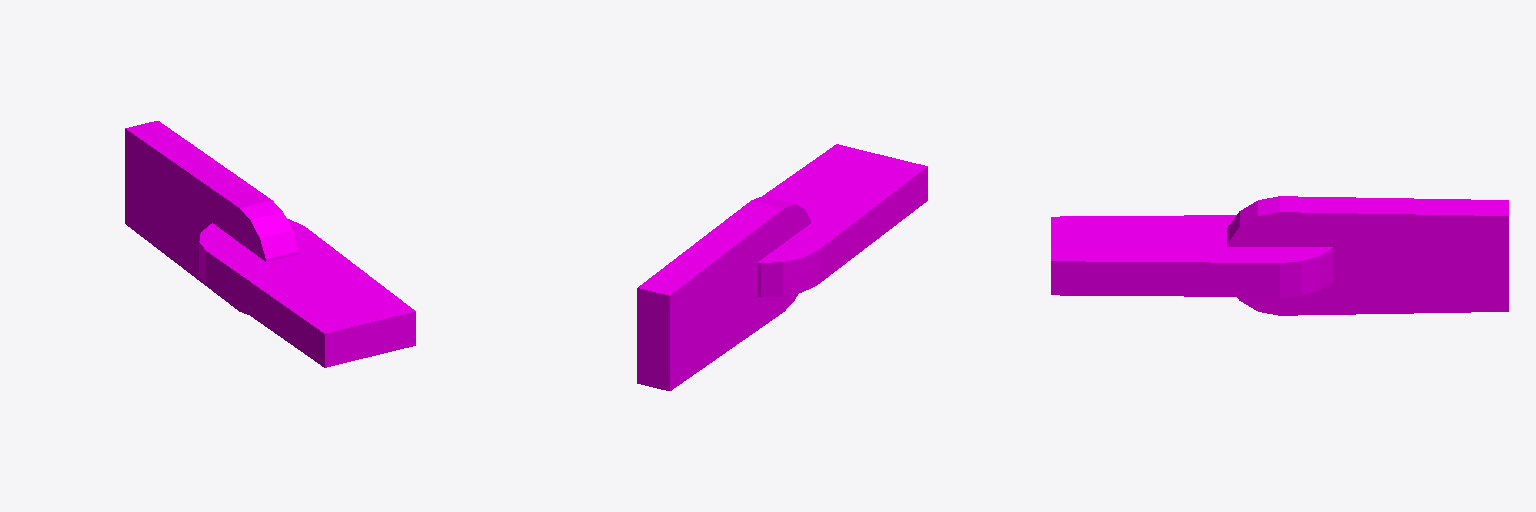
The model's file is joint_universal.obj.
3 renders of one model, left to right at view 1: azimuth 30°, elevation 25°; view 2: azimuth 150°, elevation 25°; view 3: azimuth 270°, elevation 25°, orthographic.
Parts seen in each view (by area): view 1: cylinder1_copy3, cylinder1_copy2; view 2: cylinder1_copy2, cylinder1_copy3; view 3: cylinder1_copy2, cylinder1_copy3.
Boxes of the visible parts, x1,y1,x2,y2 form: cylinder1_copy3: [199, 219, 415, 367]; cylinder1_copy2: [125, 121, 298, 314]; cylinder1_copy2: [637, 196, 810, 390]; cylinder1_copy3: [758, 144, 927, 296]; cylinder1_copy2: [1227, 196, 1508, 315]; cylinder1_copy3: [1051, 215, 1332, 296].
Size of the model in its own units: 0.5 by 0.5 by 2.